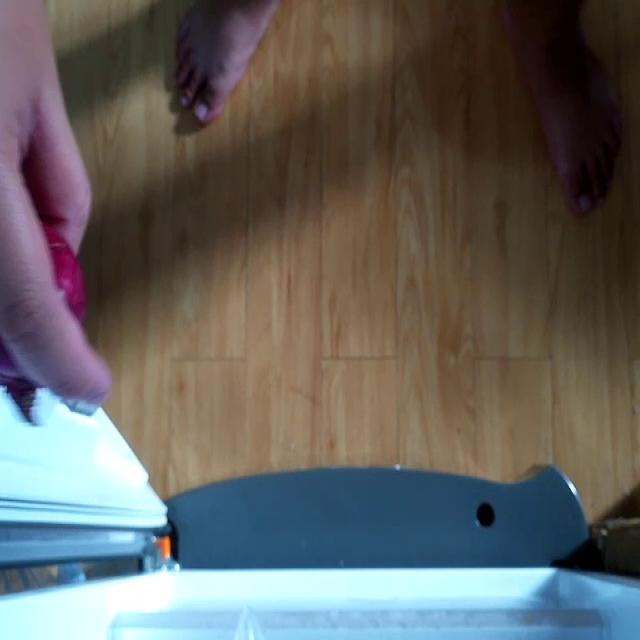onion: (0, 217, 89, 417)
